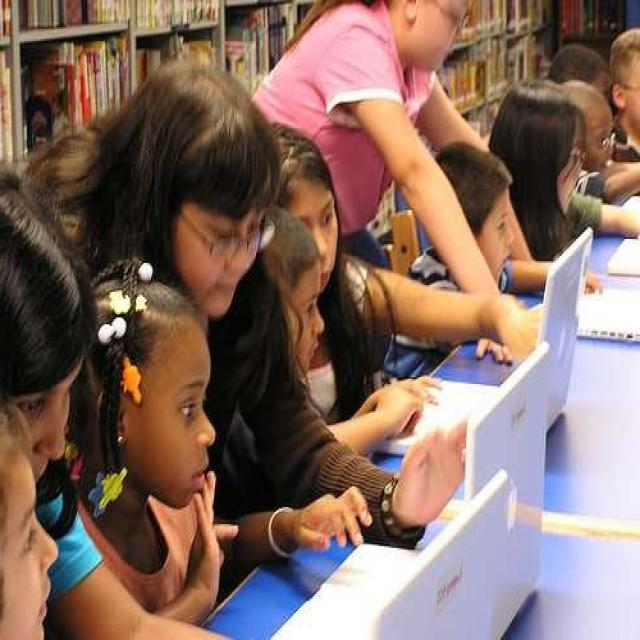laptop: (382, 471, 509, 640), (484, 354, 544, 574), (546, 241, 588, 389)
